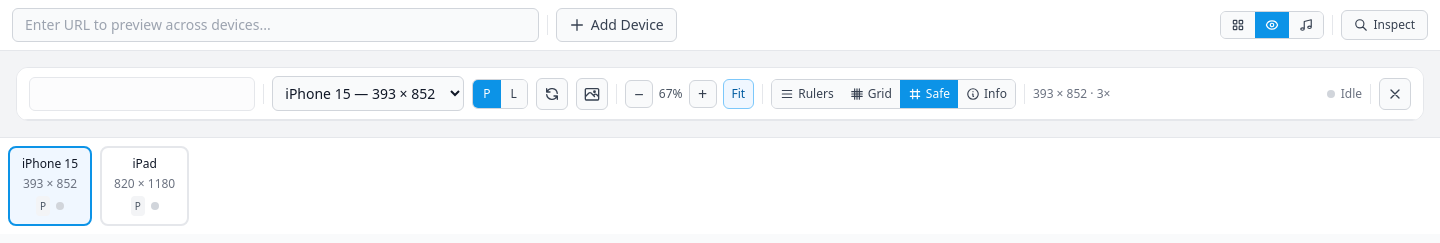
Test: PreviewWorkspace (multi-device) › switching focus to a thumbnail changes active preview
The width and height of the screenshot is (1440, 243).
// Click the iPad thumbnail
What coordinates should you click on to do the following:
click the button with aria-label "iPad preview"
I would click on:
 (145, 186)
Its box is [100, 146, 189, 226].
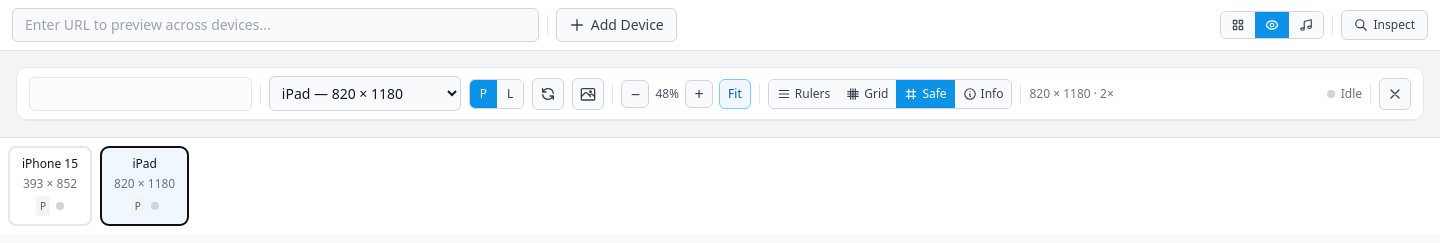
expect the button with aria-label "iPad preview (active)" is shown: met, box [100, 146, 189, 226]
